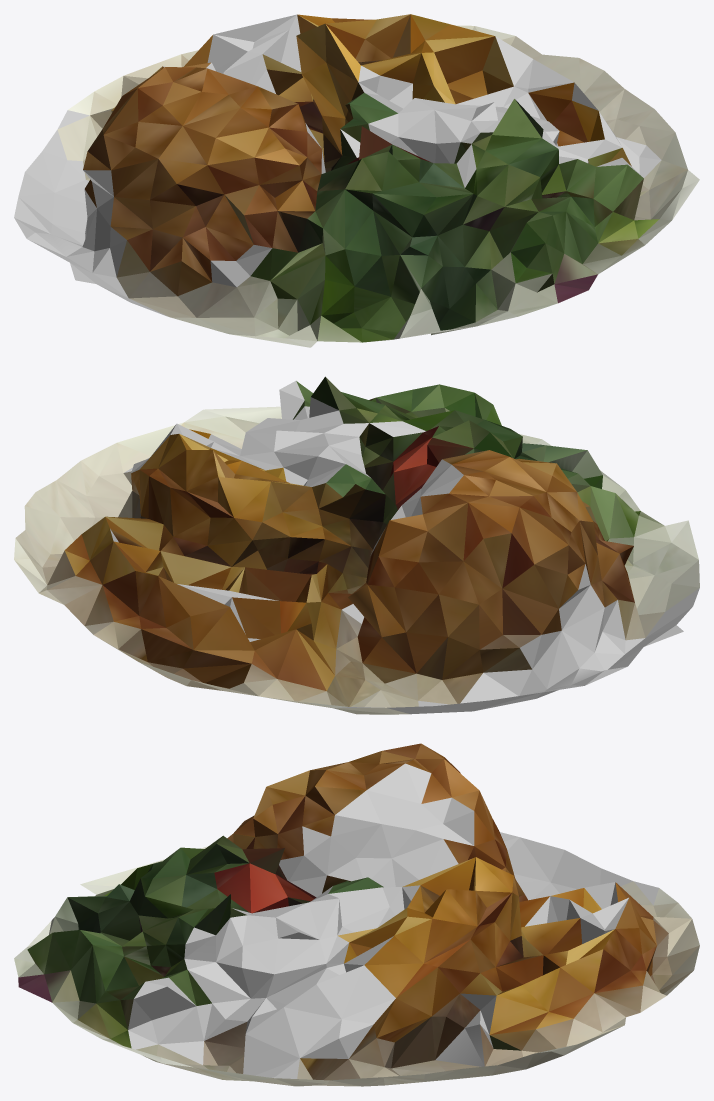
Rendered from food.obj.
3 renders of one model, top to bottom at view 1: azimuth 30°, elevation 25°; view 2: azimuth 150°, elevation 25°; view 3: azimuth 270°, elevation 25°, orthographic. The views are drawn at different scales.
Parts seen in each view (by area): view 1: object_3, object_2; view 2: object_3, object_2; view 3: object_3, object_2.
Part boxes in pixels (box(x1,y1,x2,y2)): object_3: box(57, 14, 699, 347); object_2: box(14, 14, 661, 316); object_3: box(14, 376, 699, 714); object_2: box(110, 381, 699, 714); object_3: box(14, 743, 699, 1086); object_2: box(128, 763, 658, 1078).
Bounding box in the file's own units: 7.24 × 2.04 × 7.29.
